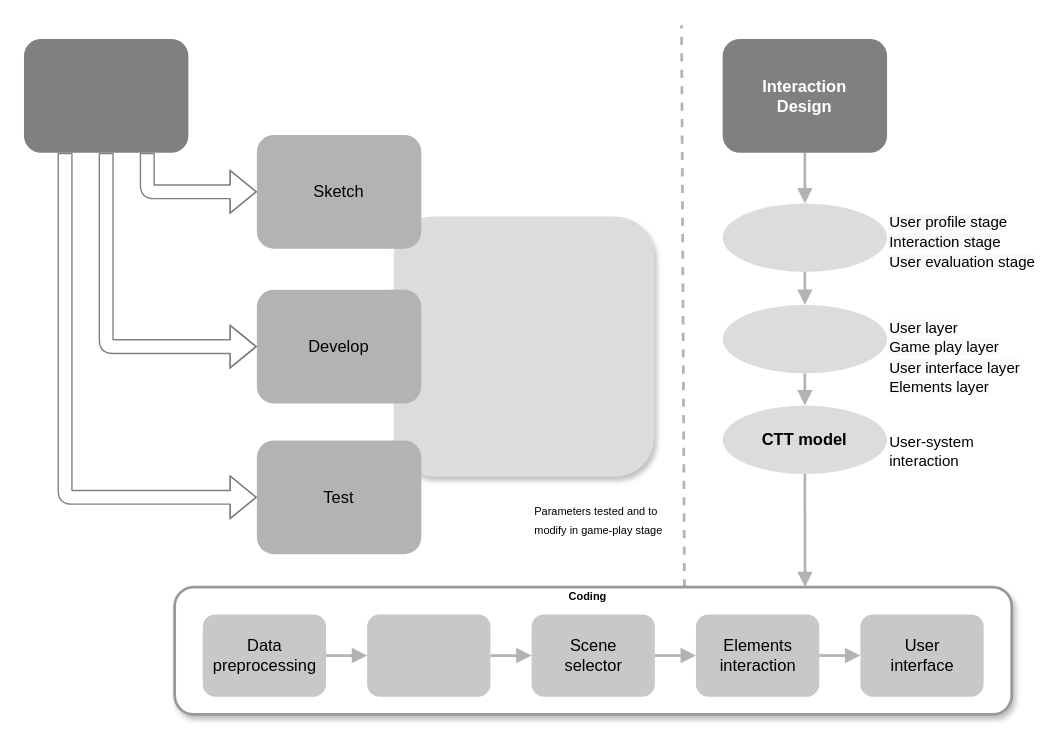
Some shapes in this 1060 by 748 pixel diagram are drawn without their labels. The centre of each missing label's shape, as x and y in pixels:
"General diagrams" goes at pixel 804 237.
"Interface Specification" goes at pixel 105 95.
"RF algorithm" goes at pixel 428 655.
"UML model" goes at pixel 804 338.
